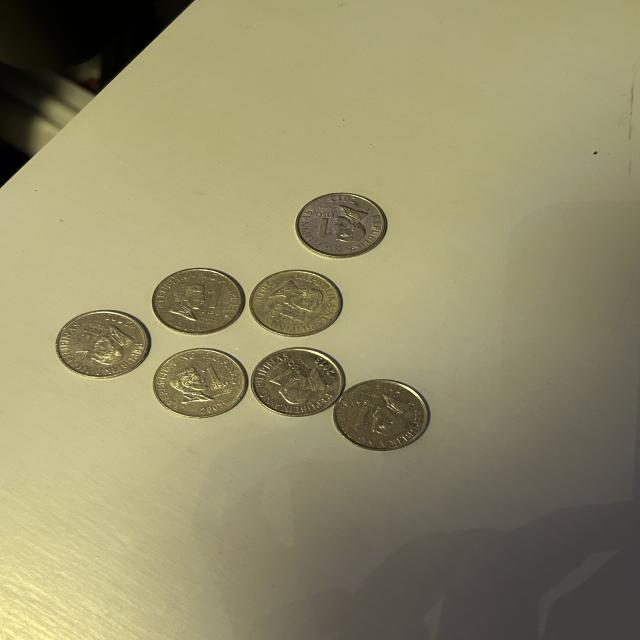1_Old_Front: (266, 301, 308, 329), (200, 362, 233, 395), (350, 394, 375, 436), (202, 281, 228, 321), (71, 326, 98, 364), (270, 361, 301, 390), (311, 209, 335, 239)
